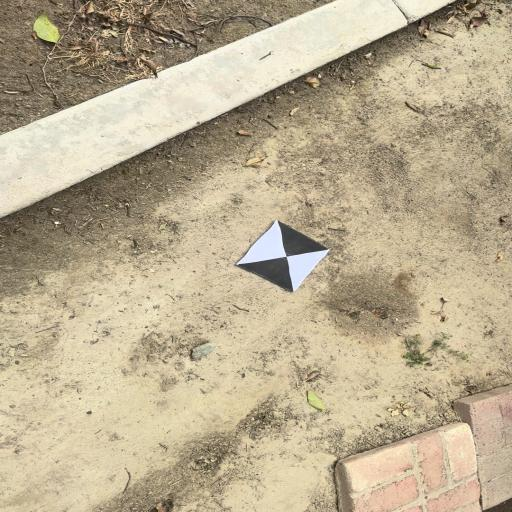target: (236, 220, 330, 292)
